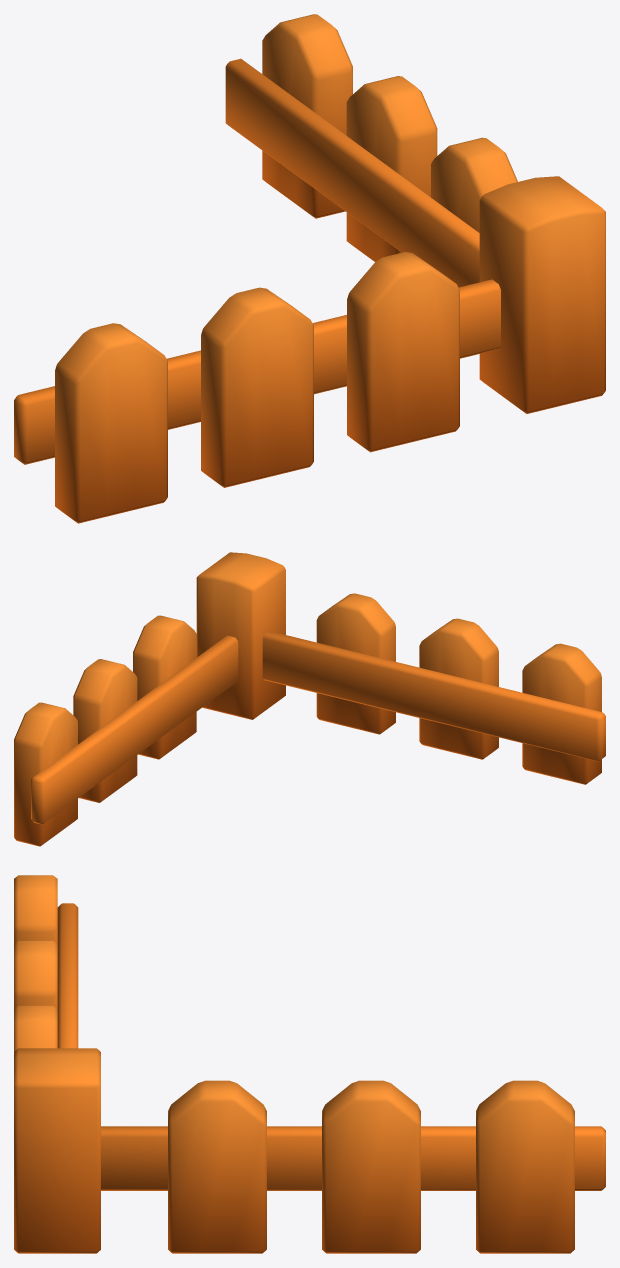
Rendered from Prop_Fence_A_02.fbx.
3 views of the same model, one above another, from view 1: azimuth 30°, elevation 25°; view 2: azimuth 150°, elevation 25°; view 3: azimuth 270°, elevation 25° (orthographic). The views are drawn at different scales.
Visible parts, largest first — view 1: Prop_Fence_A_02; view 2: Prop_Fence_A_02; view 3: Prop_Fence_A_02.
Boxes of the visible parts, x1=… form: Prop_Fence_A_02: x1=14, y1=14, x2=605, y2=523; Prop_Fence_A_02: x1=14, y1=552, x2=605, y2=846; Prop_Fence_A_02: x1=14, y1=875, x2=605, y2=1253.
Size of the model in its own units: 190 by 62.23 by 190.
